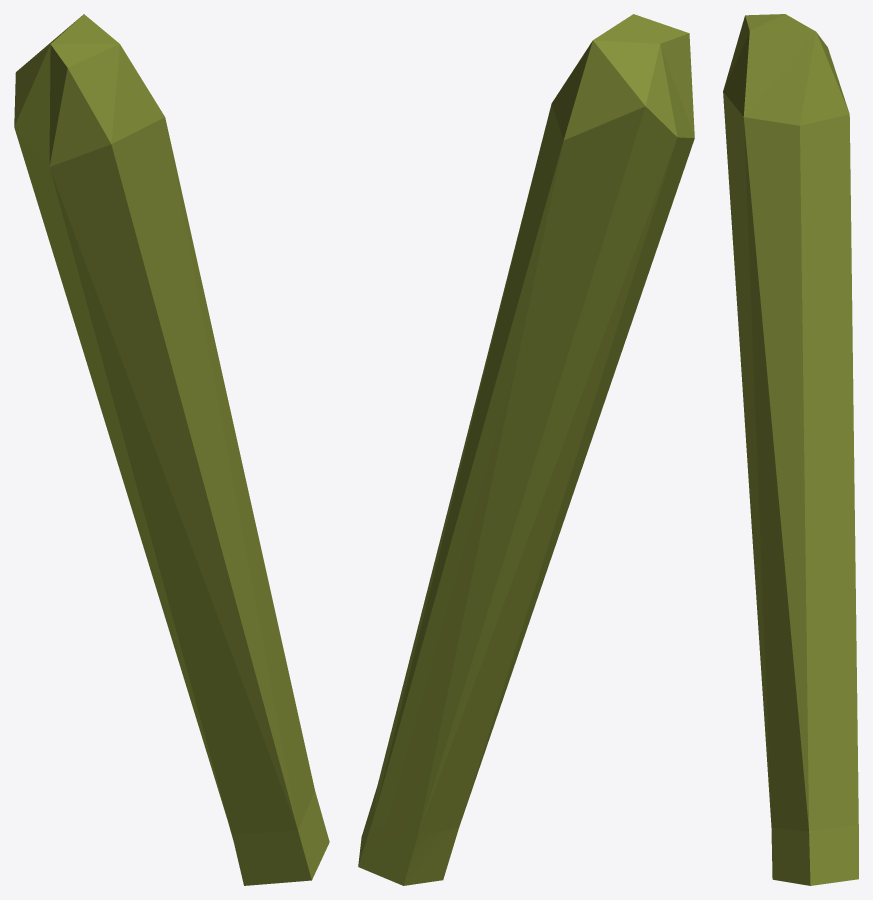
File: ea_swamp_grass_01a_pre__42__lev1.glb
3 renders of one model, left to right at view 1: azimuth 30°, elevation 25°; view 2: azimuth 150°, elevation 25°; view 3: azimuth 270°, elevation 25°, orthographic. The views are drawn at different scales.
Visible parts, largest first — view 1: ea_swamp_grass_01a_pre__42__lev1; view 2: ea_swamp_grass_01a_pre__42__lev1; view 3: ea_swamp_grass_01a_pre__42__lev1.
Boxes of the visible parts, x1=… form: ea_swamp_grass_01a_pre__42__lev1: x1=14, y1=14, x2=329, y2=885; ea_swamp_grass_01a_pre__42__lev1: x1=358, y1=14, x2=694, y2=885; ea_swamp_grass_01a_pre__42__lev1: x1=723, y1=14, x2=858, y2=885.
Bounding box in the file's own units: 0.7188 × 1.94 × 0.3095.
Materials: 1 (1 with a texture image).
